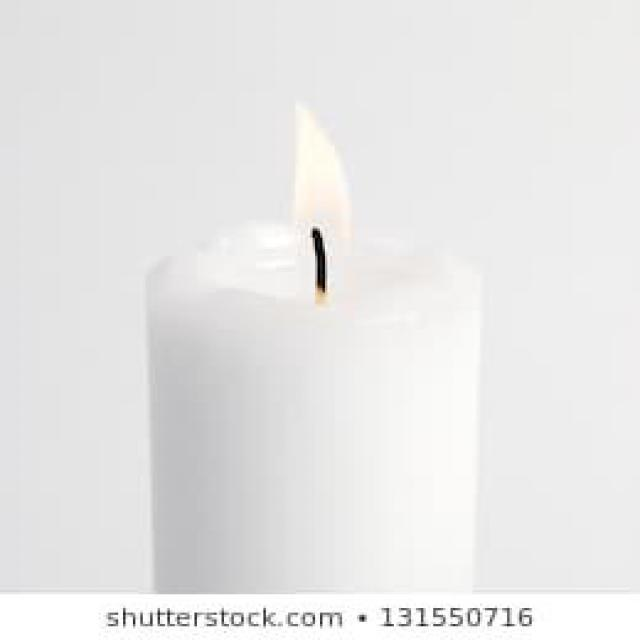Fire: (292, 94, 354, 260)
